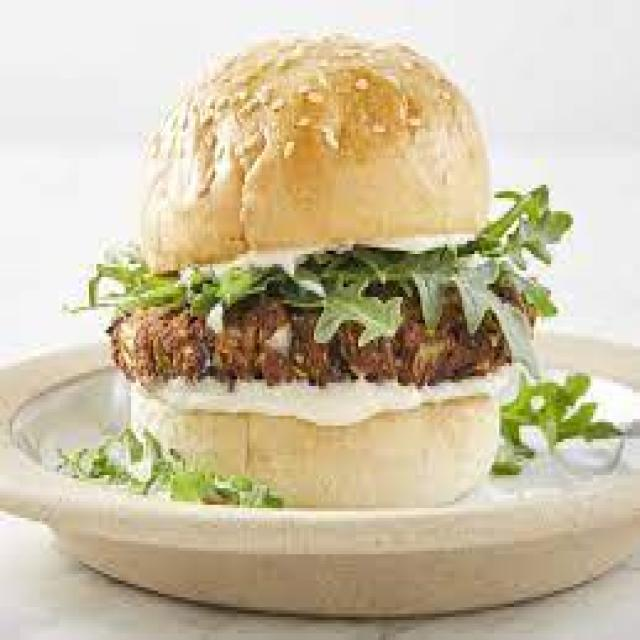Wet Waste: (126, 80, 558, 518)
